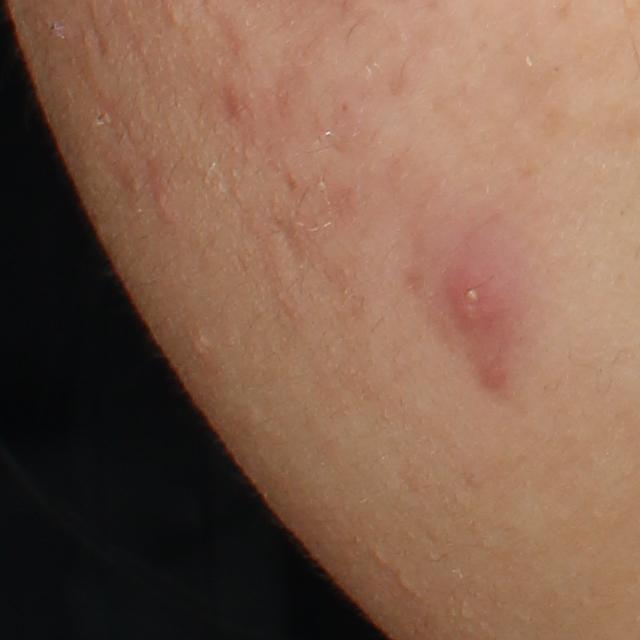comedo: (169, 10, 183, 26)
papule: (142, 165, 179, 223)
